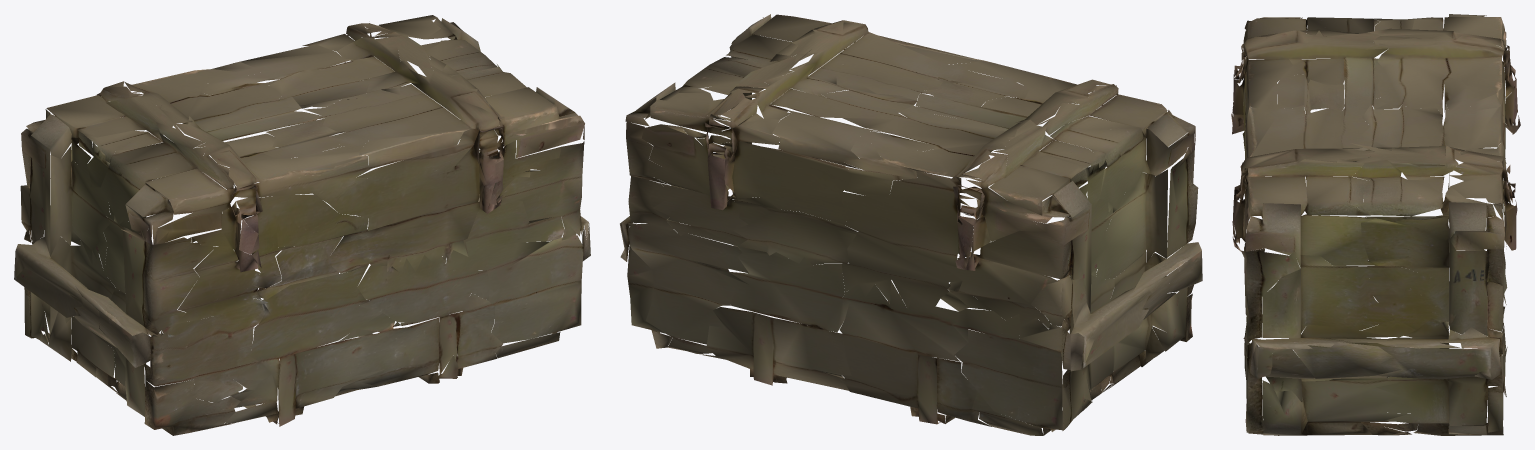
The model's file is ammo-crate.glb.
3 renders of one model, left to right at view 1: azimuth 30°, elevation 25°; view 2: azimuth 150°, elevation 25°; view 3: azimuth 270°, elevation 25°, orthographic. The views are drawn at different scales.
Parts seen in each view (by area): view 1: ammo_crate; view 2: ammo_crate; view 3: ammo_crate.
Boxes of the visible parts, box(x1,y1,x2,y2) form: ammo_crate: box(14, 15, 590, 435); ammo_crate: box(620, 14, 1202, 435); ammo_crate: box(1231, 14, 1520, 435).
Size of the model in its own units: 0.5998 by 0.3376 by 0.3304.
1 material, 1 textured.
